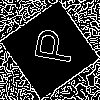P: (25, 25, 76, 66)
